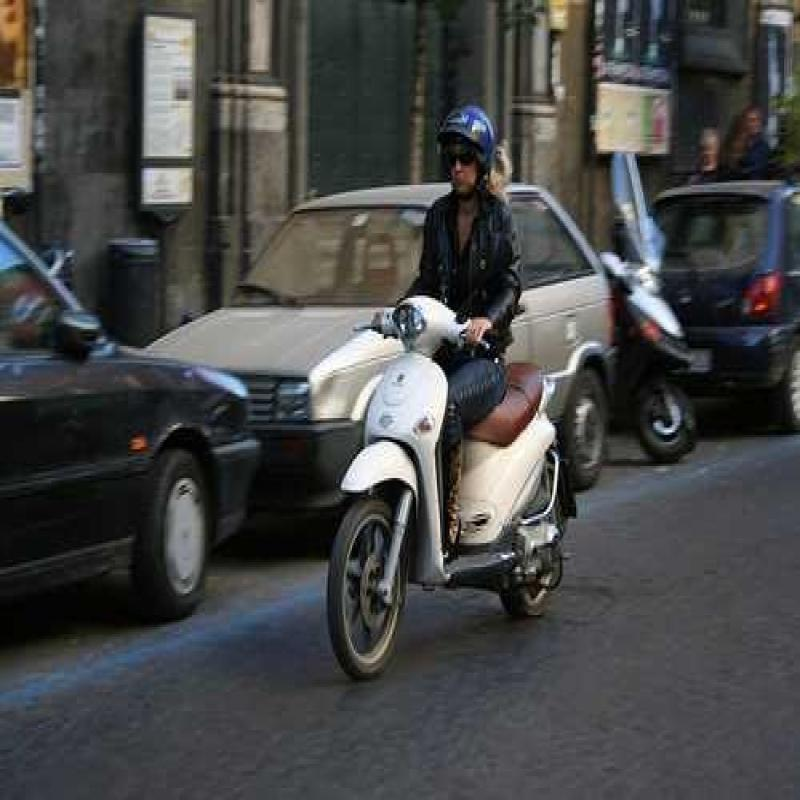bike: (326, 283, 582, 702)
